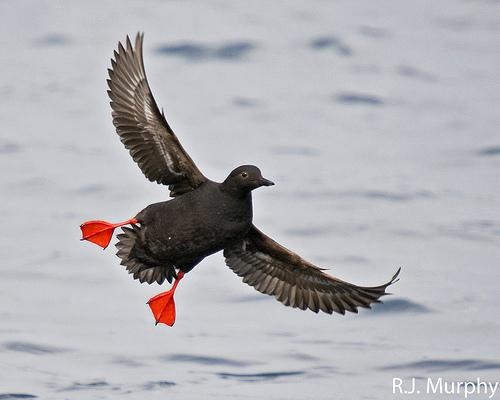bird: (81, 29, 406, 329)
